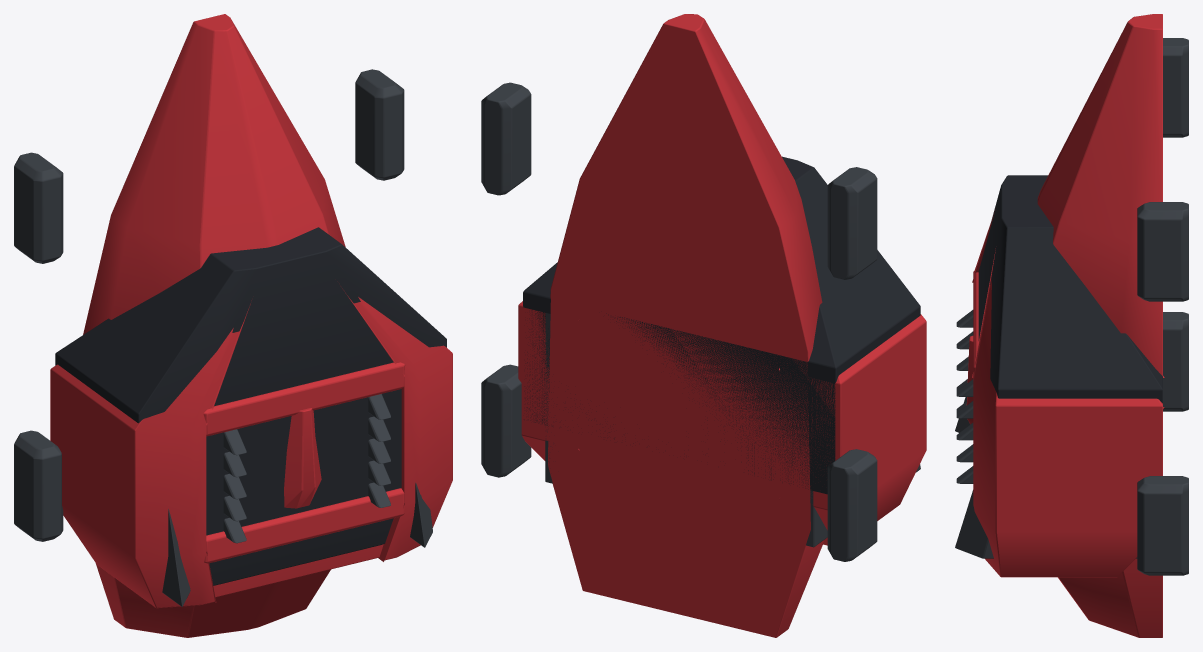
Rendered from CalfFront_Set04_Ripjaw.fbx.
3 views of the same model, side by side, from view 1: azimuth 30°, elevation 25°; view 2: azimuth 150°, elevation 25°; view 3: azimuth 270°, elevation 25° (orthographic). The views are drawn at different scales.
Visible parts, largest first — view 1: CalfFront_Set04_Ripjaw; view 2: CalfFront_Set04_Ripjaw; view 3: CalfFront_Set04_Ripjaw.
Part boxes in pixels (x1=…): CalfFront_Set04_Ripjaw: x1=14, y1=14, x2=452, y2=637; CalfFront_Set04_Ripjaw: x1=481, y1=14, x2=926, y2=637; CalfFront_Set04_Ripjaw: x1=955, y1=14, x2=1188, y2=637.
Bounding box in the file's own units: 0.49 × 0.73 × 0.2711.
